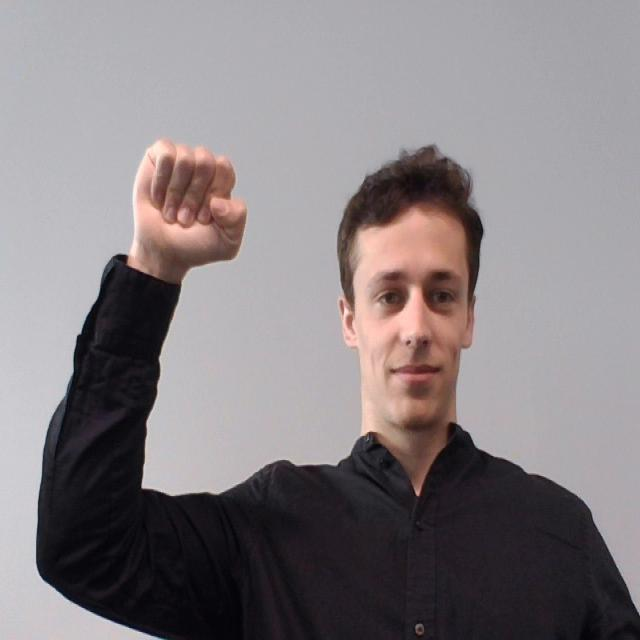stop: (120, 121, 258, 276)
